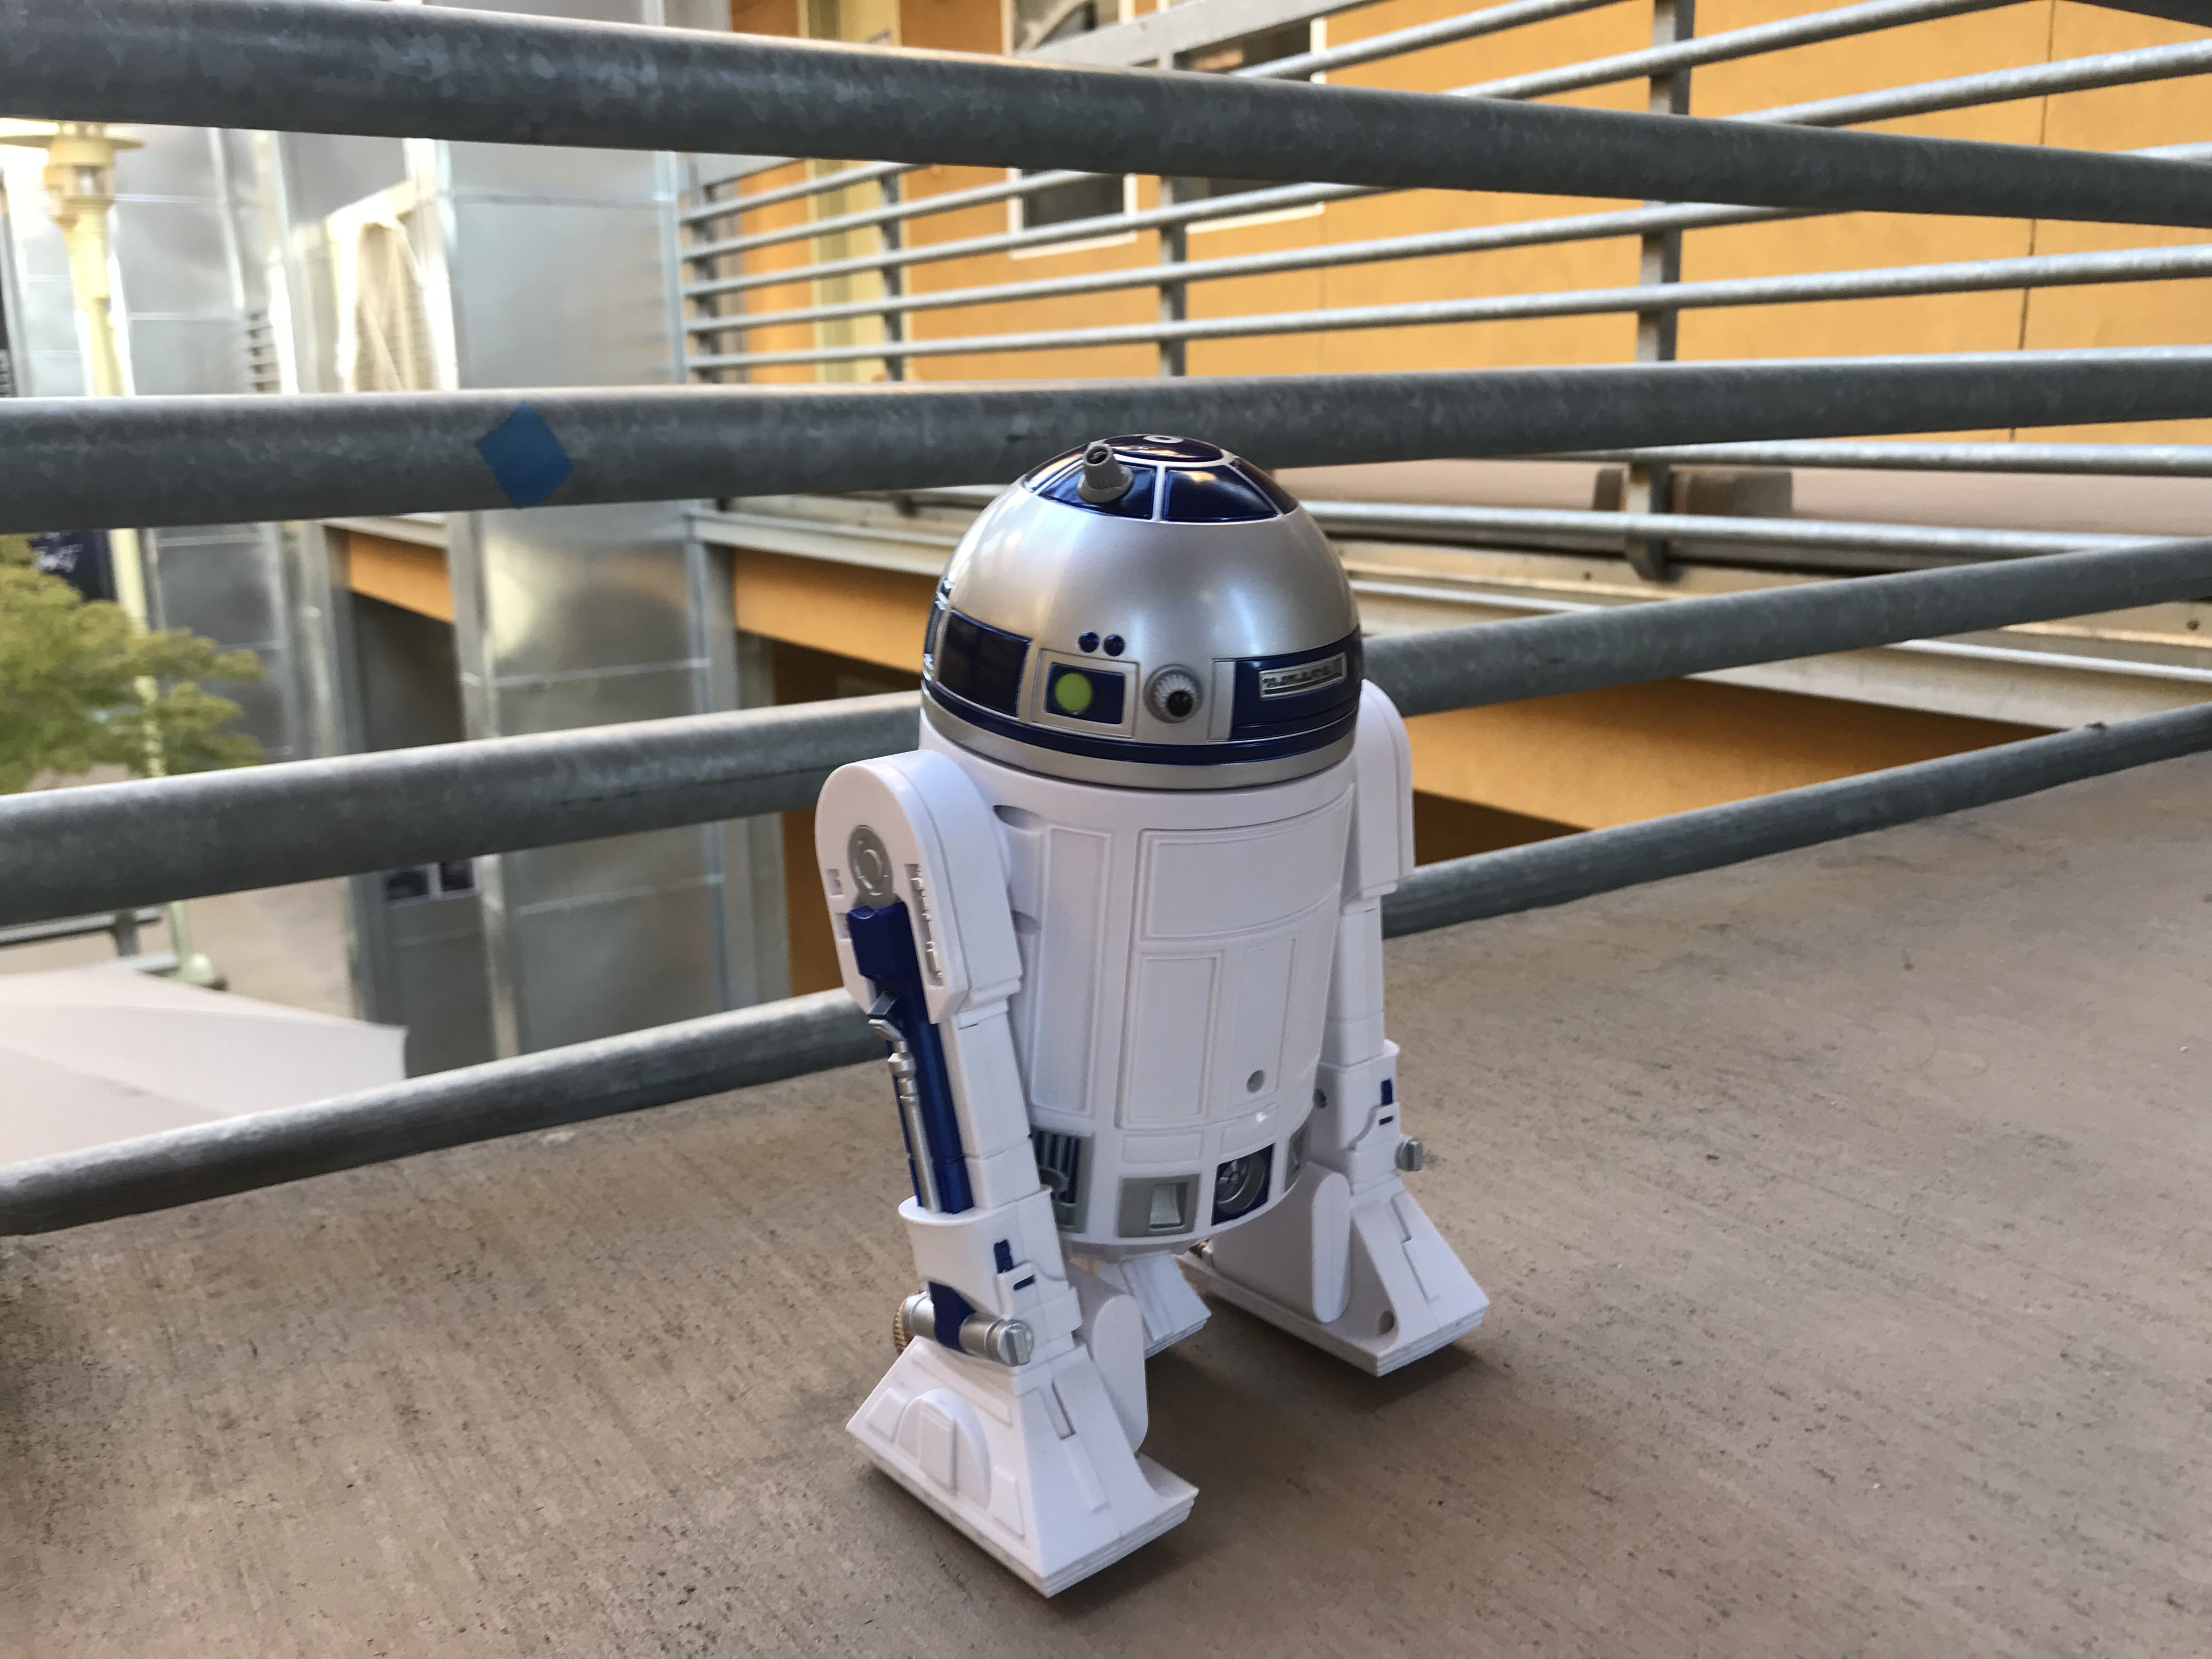r2d2: (852, 429, 1489, 1598)
